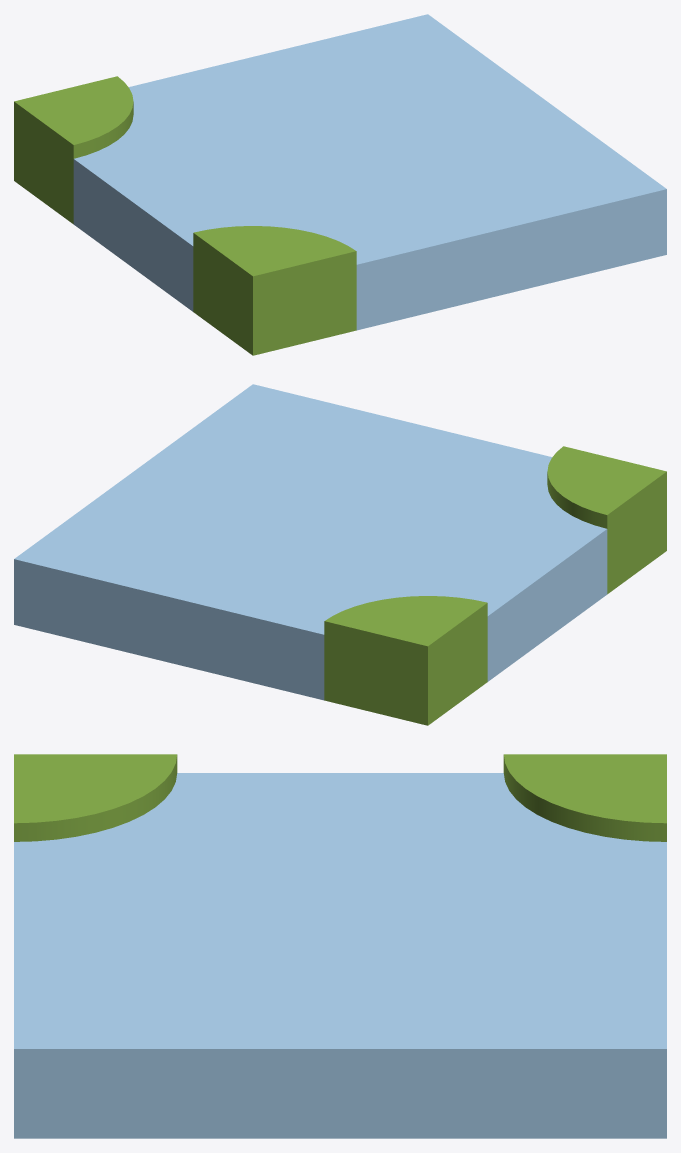
Rendered from roadTile_167.obj.
3 views of the same model, one above another, from view 1: azimuth 30°, elevation 25°; view 2: azimuth 150°, elevation 25°; view 3: azimuth 270°, elevation 25° (orthographic). The views are drawn at different scales.
Parts seen in each view (by area): view 1: roadTile_167; view 2: roadTile_167; view 3: roadTile_167.
Part boxes in pixels (x1,y1,x2,y2): roadTile_167: [14, 14, 666, 355]; roadTile_167: [14, 384, 666, 725]; roadTile_167: [14, 754, 666, 1138].
Bounding box in the file's own units: 3 × 0.55 × 3.
